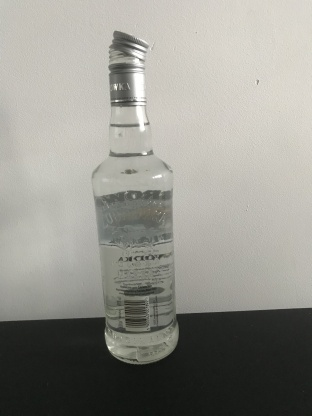nakretka: (106, 27, 149, 108)
